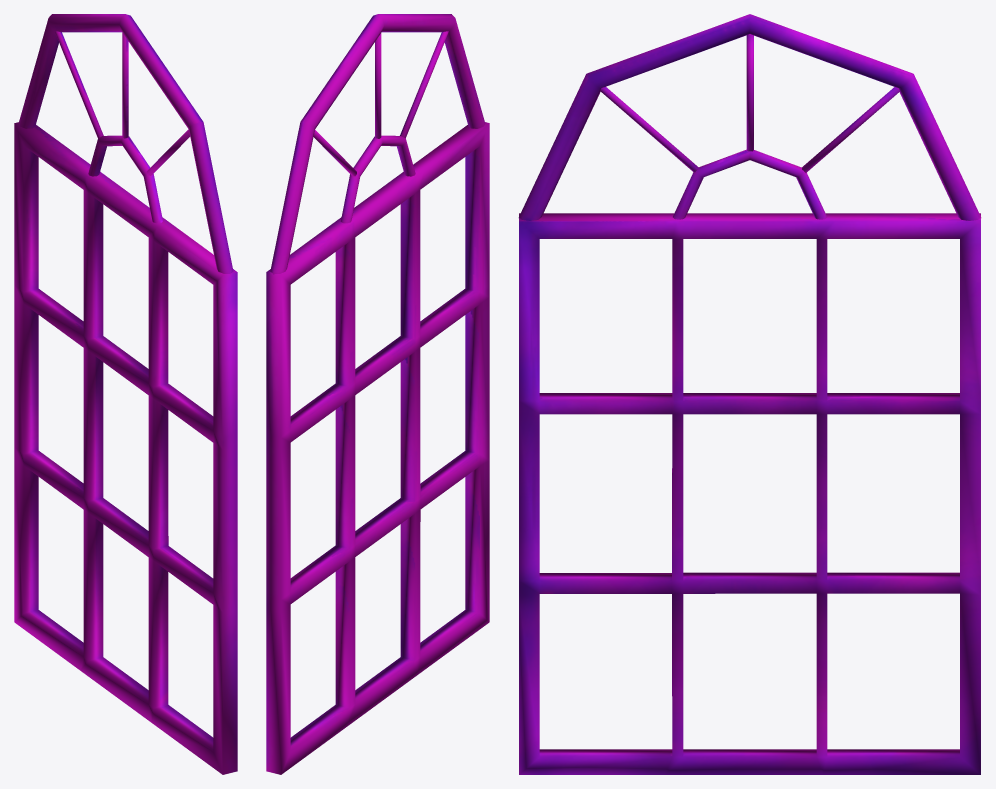
The model's file is Winddow.fbx.
3 views of the same model, side by side, from view 1: azimuth 30°, elevation 25°; view 2: azimuth 150°, elevation 25°; view 3: azimuth 270°, elevation 25° (orthographic). The views are drawn at different scales.
Parts seen in each view (by area): view 1: Cube; view 2: Cube; view 3: Cube.
Boxes of the visible parts, <box> form: Cube: <box>14,14,237,774</box>; Cube: <box>266,14,489,774</box>; Cube: <box>518,14,981,774</box>.
Size of the model in its own units: 8.13 by 362 by 200.
Materials: 1 (1 with a texture image).
